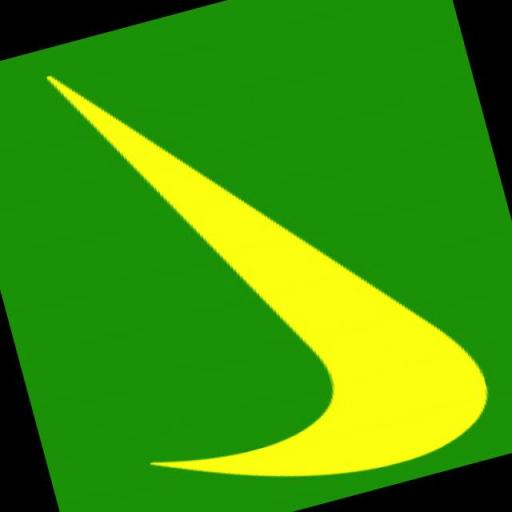Nike: (43, 0, 501, 512)
